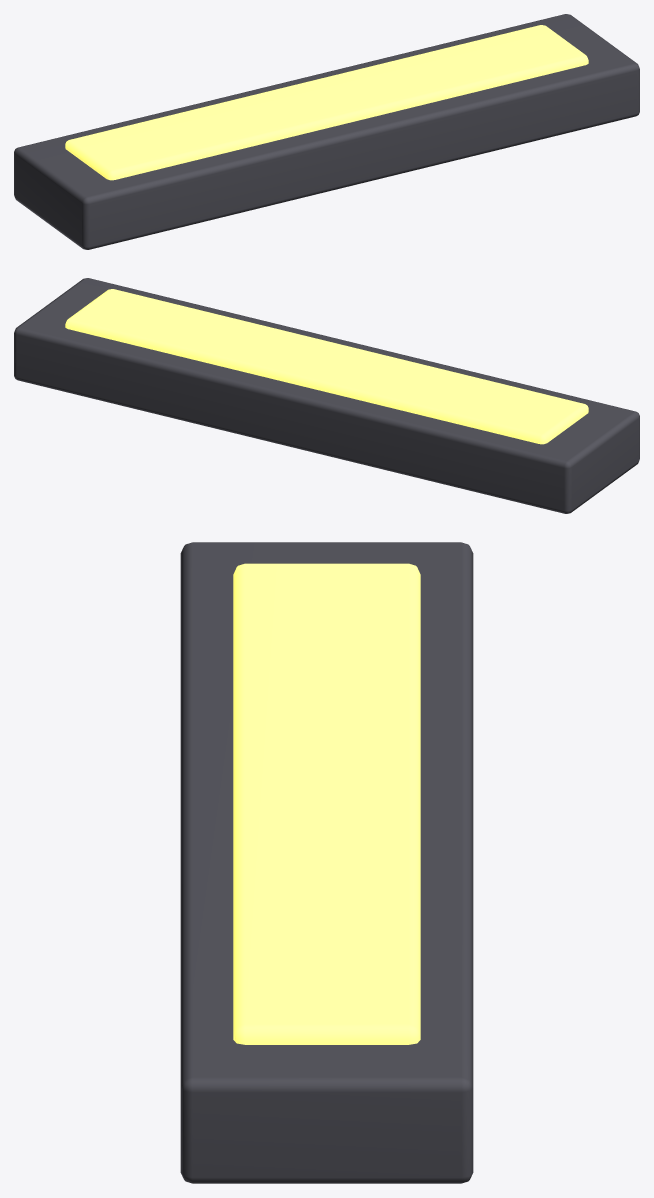
Rendered from mech_kit_light_bar.glb.
3 renders of one model, top to bottom at view 1: azimuth 30°, elevation 25°; view 2: azimuth 150°, elevation 25°; view 3: azimuth 270°, elevation 25°, orthographic. The views are drawn at different scales.
Visible parts, largest first — view 1: mech_kit_light_bar; view 2: mech_kit_light_bar; view 3: mech_kit_light_bar.
Part boxes in pixels (left/top/right/bottom): mech_kit_light_bar: left=14, top=14, right=639, bottom=249; mech_kit_light_bar: left=14, top=278, right=639, bottom=513; mech_kit_light_bar: left=180, top=542, right=473, bottom=1183.
Size of the model in its own units: 0.22 by 0.023 by 0.05.
